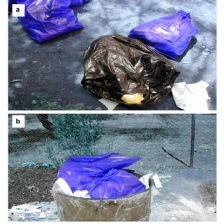plastic_bag: (79, 31, 182, 109), (55, 143, 142, 195), (125, 8, 201, 61), (12, 0, 85, 47), (85, 166, 144, 203), (64, 0, 96, 7)
